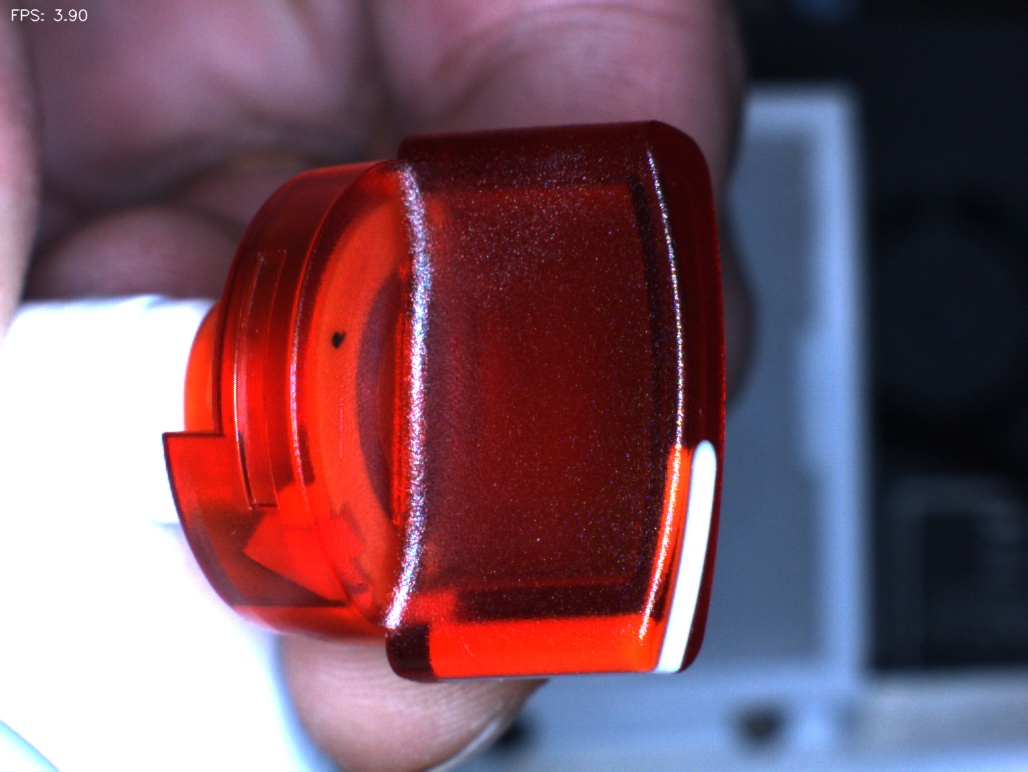PointNoir: (303, 303, 373, 375)
